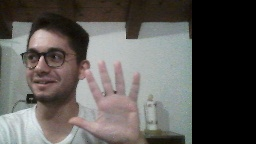Mano_aperta: (64, 56, 144, 143)
